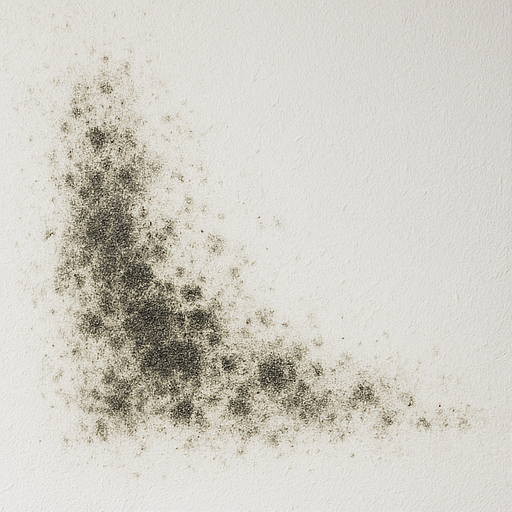schimmel: (74, 122, 214, 418), (222, 344, 394, 432)
